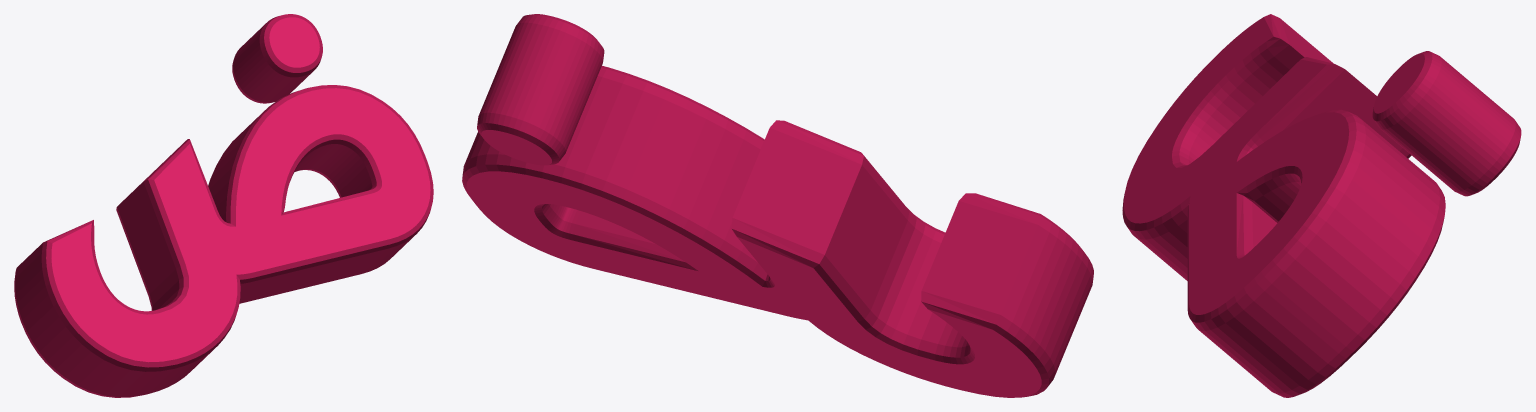
3 views of the same model, side by side, from view 1: azimuth 30°, elevation 25°; view 2: azimuth 150°, elevation 25°; view 3: azimuth 270°, elevation 25° (orthographic). The views are drawn at different scales.
Visible parts, largest first — view 1: letter; view 2: letter; view 3: letter.
Boxes of the visible parts, x1,y1,x2,y2 form: letter: [14, 14, 433, 397]; letter: [462, 14, 1093, 397]; letter: [1122, 14, 1521, 397].
Bounding box in the file's own units: 1.75 × 1.15 × 1.1.
